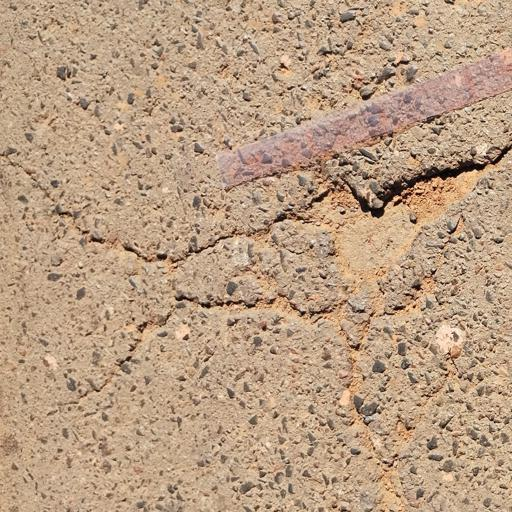GRIETA: (6, 156, 100, 242)
PIEL DE COCODRILO: (98, 135, 511, 511)
